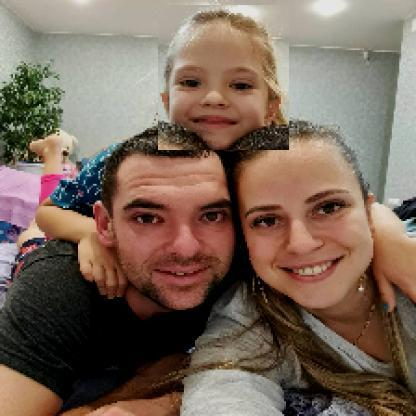child: (159, 6, 291, 152)
